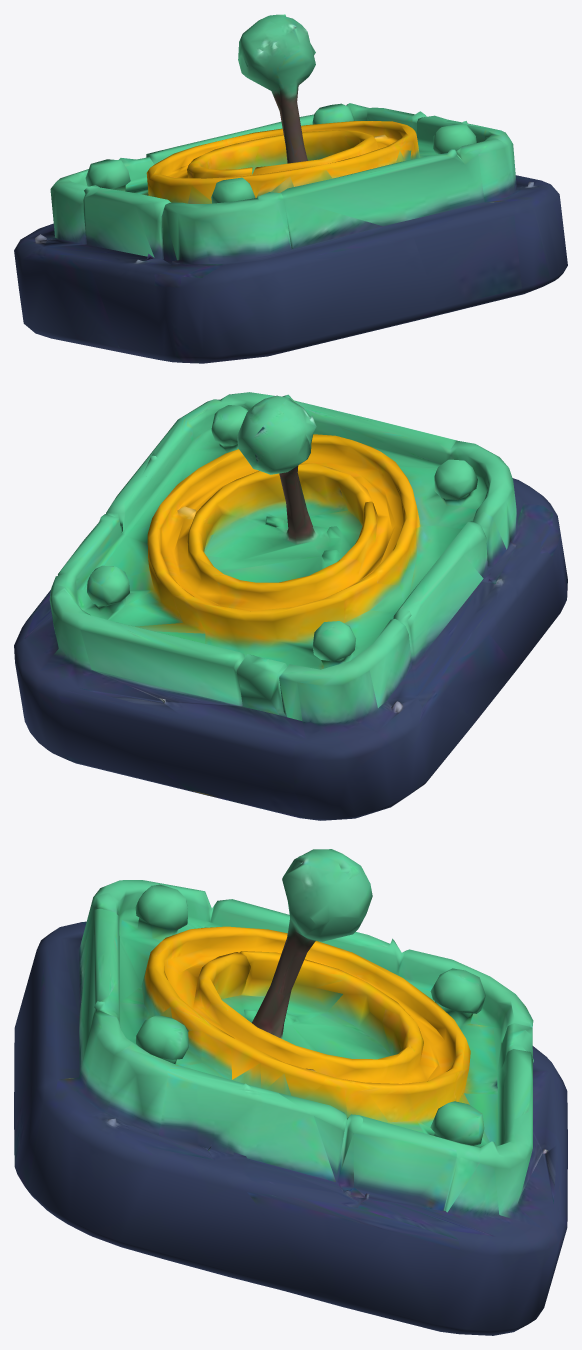
File: track-island.glb
The picture shows the model from 3 angles, top to bottom: view 1: azimuth 30°, elevation 25°; view 2: azimuth 150°, elevation 25°; view 3: azimuth 270°, elevation 25°; orthographic projection. The views are drawn at different scales.
Parts seen in each view (by area): view 1: tripo_node_e80edcaf-1ac5-4ff3-9027-1f8266ee6c98; view 2: tripo_node_e80edcaf-1ac5-4ff3-9027-1f8266ee6c98; view 3: tripo_node_e80edcaf-1ac5-4ff3-9027-1f8266ee6c98.
Part boxes in pixels (<box>): tripo_node_e80edcaf-1ac5-4ff3-9027-1f8266ee6c98: <box>14,14,567,363</box>; tripo_node_e80edcaf-1ac5-4ff3-9027-1f8266ee6c98: <box>14,392,567,820</box>; tripo_node_e80edcaf-1ac5-4ff3-9027-1f8266ee6c98: <box>14,849,567,1335</box>.
Size of the model in its own units: 1.28 by 0.9992 by 1.28.
Materials: 1 (1 with a texture image).
